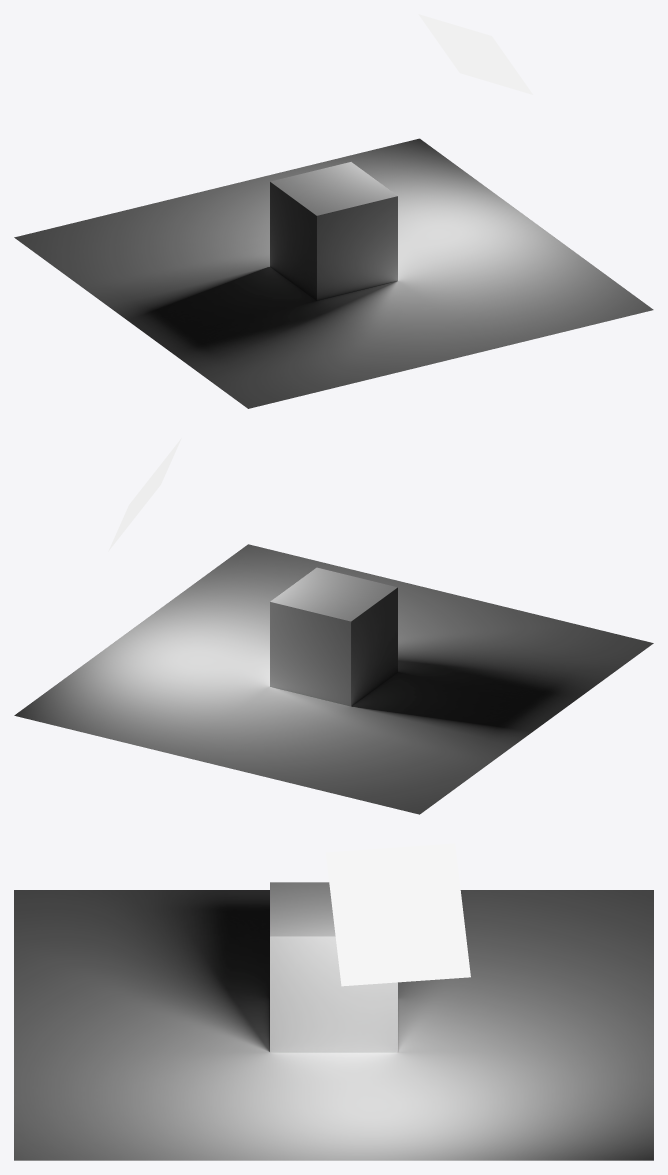
File: testCube.glb
3 views of the same model, one above another, from view 1: azimuth 30°, elevation 25°; view 2: azimuth 150°, elevation 25°; view 3: azimuth 270°, elevation 25° (orthographic). The views are drawn at different scales.
Parts seen in each view (by area): view 1: Plane, Cube, Light; view 2: Plane, Cube, Light; view 3: Plane, Light, Cube.
Part boxes in pixels (x1,y1,x2,y2): Plane: [14, 138, 653, 408]; Cube: [270, 162, 397, 300]; Light: [418, 14, 532, 94]; Plane: [14, 544, 653, 814]; Cube: [270, 567, 397, 706]; Light: [108, 438, 181, 551]; Plane: [14, 890, 653, 1160]; Light: [325, 843, 470, 986]; Cube: [270, 882, 397, 1052].
Bounding box in the file's own units: 10 × 4.76 × 10.
Materials: 3 (2 with a texture image).
